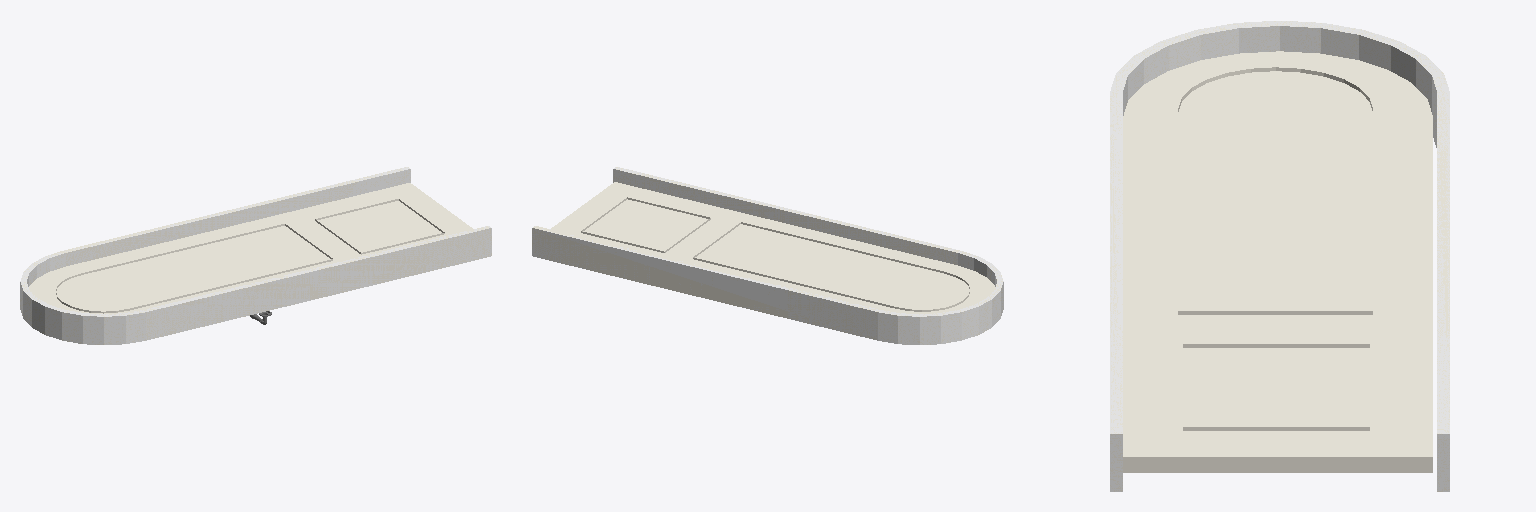
URDF robot description (right-pull-door):
<?xml version="1.0" ?>
<robot name="right-pull-door">
	<link name="base"/>
	<link name="link_0">
		<visual name="out-frame">
			<origin xyz="0 0 0"/>
			<geometry>
				<mesh filename="texture_dae/frame.dae" scale="0.8058563763082262 0.8058563763082262 0.8058563763082262"/>
			</geometry>
		</visual>
		<collision>
			<origin xyz="0 0 0"/>
			<geometry>
				<mesh filename="texture_dae/frame.dae" scale="0.8058563763082262 0.8058563763082262 0.8058563763082262"/>
			</geometry>
		</collision>
	</link>
	<joint name="joint_0" type="fixed">
		<origin rpy="1.570796326794897 0 -1.570796326794897" xyz="0 0 0"/>
		<child link="link_0"/>
		<parent link="base"/>
	</joint>
	<link name="link_1">
		<visual name="surf-board">
			<origin xyz="0.28976845039780375 -0.911344515531866 0"/>
			<geometry>
				<mesh filename="texture_dae/board.dae" scale="0.8058563763082262 0.8058563763082262 0.8058563763082262"/>
			</geometry>
		</visual>
		<collision>
			<origin xyz="0.28976845039780375 -0.911344515531866 0"/>
			<geometry>
				<mesh filename="texture_dae/board.dae" scale="0.8058563763082262 0.8058563763082262 0.8058563763082262"/>
			</geometry>
		</collision>
	</link>
	<joint name="joint_1" type="revolute">
		<origin xyz="-0.28976845039780375 0.911344515531866 0"/>
		<axis xyz="0 -1 0"/>
		<child link="link_1"/>
		<parent link="link_0"/>
		<limit lower="0" upper="1.5079644737231006"/>
	</joint>
	<link name="link_2">
		<visual name="handle">
			<origin xyz="0 0 0"/>
			<geometry>
				<mesh filename="texture_dae/9960024.dae" scale="0.9205565121456872 0.9205565121456872 0.9205565121456872"/>
			</geometry>
		</visual>
		<collision>
			<origin xyz="0 0 0"/>
			<geometry>
				<mesh filename="texture_dae/9960024.dae" scale="0.9205565121456872 0.9205565121456872 0.9205565121456872"/>
			</geometry>
		</collision>
	</link>
	<joint name="joint_2" type="revolute">
		<origin xyz="0.5163335461102969 -1.0290850593231289 0.023484701758352815"/>
		<child link="link_2"/>
		<parent link="link_1"/>
		<axis xyz="0 0 1"/>
		<limit lower="0" upper="1.5079644737231006"/>
	</joint>
</robot>

--- What the picture shows (computed from the rendered views, not written in the file) ---
Views: 3 orthographic renders of the robot side by side, from view 1: azimuth 30°, elevation 25°; view 2: azimuth 150°, elevation 25°; view 3: azimuth 270°, elevation 25°.
Robot: right-pull-door — 4 links, 3 joints (2 revolute, 1 fixed); root link base; default pose: every joint at zero.
Links seen in each view (by area): view 1: link_1, link_0; view 2: link_1, link_0; view 3: link_1, link_0.
Link boxes in pixels (x1,y1,x2,y2): link_1: [29, 183, 472, 313]; link_0: [20, 167, 491, 344]; link_1: [551, 182, 994, 313]; link_0: [532, 167, 1003, 344]; link_1: [1123, 51, 1432, 472]; link_0: [1110, 21, 1449, 491].
Size in the robot's own frame: 1.85 by 0.6447 by 0.2375 metres.
3 mesh visuals loaded from 3 distinct referenced files (3 Collada DAE).
